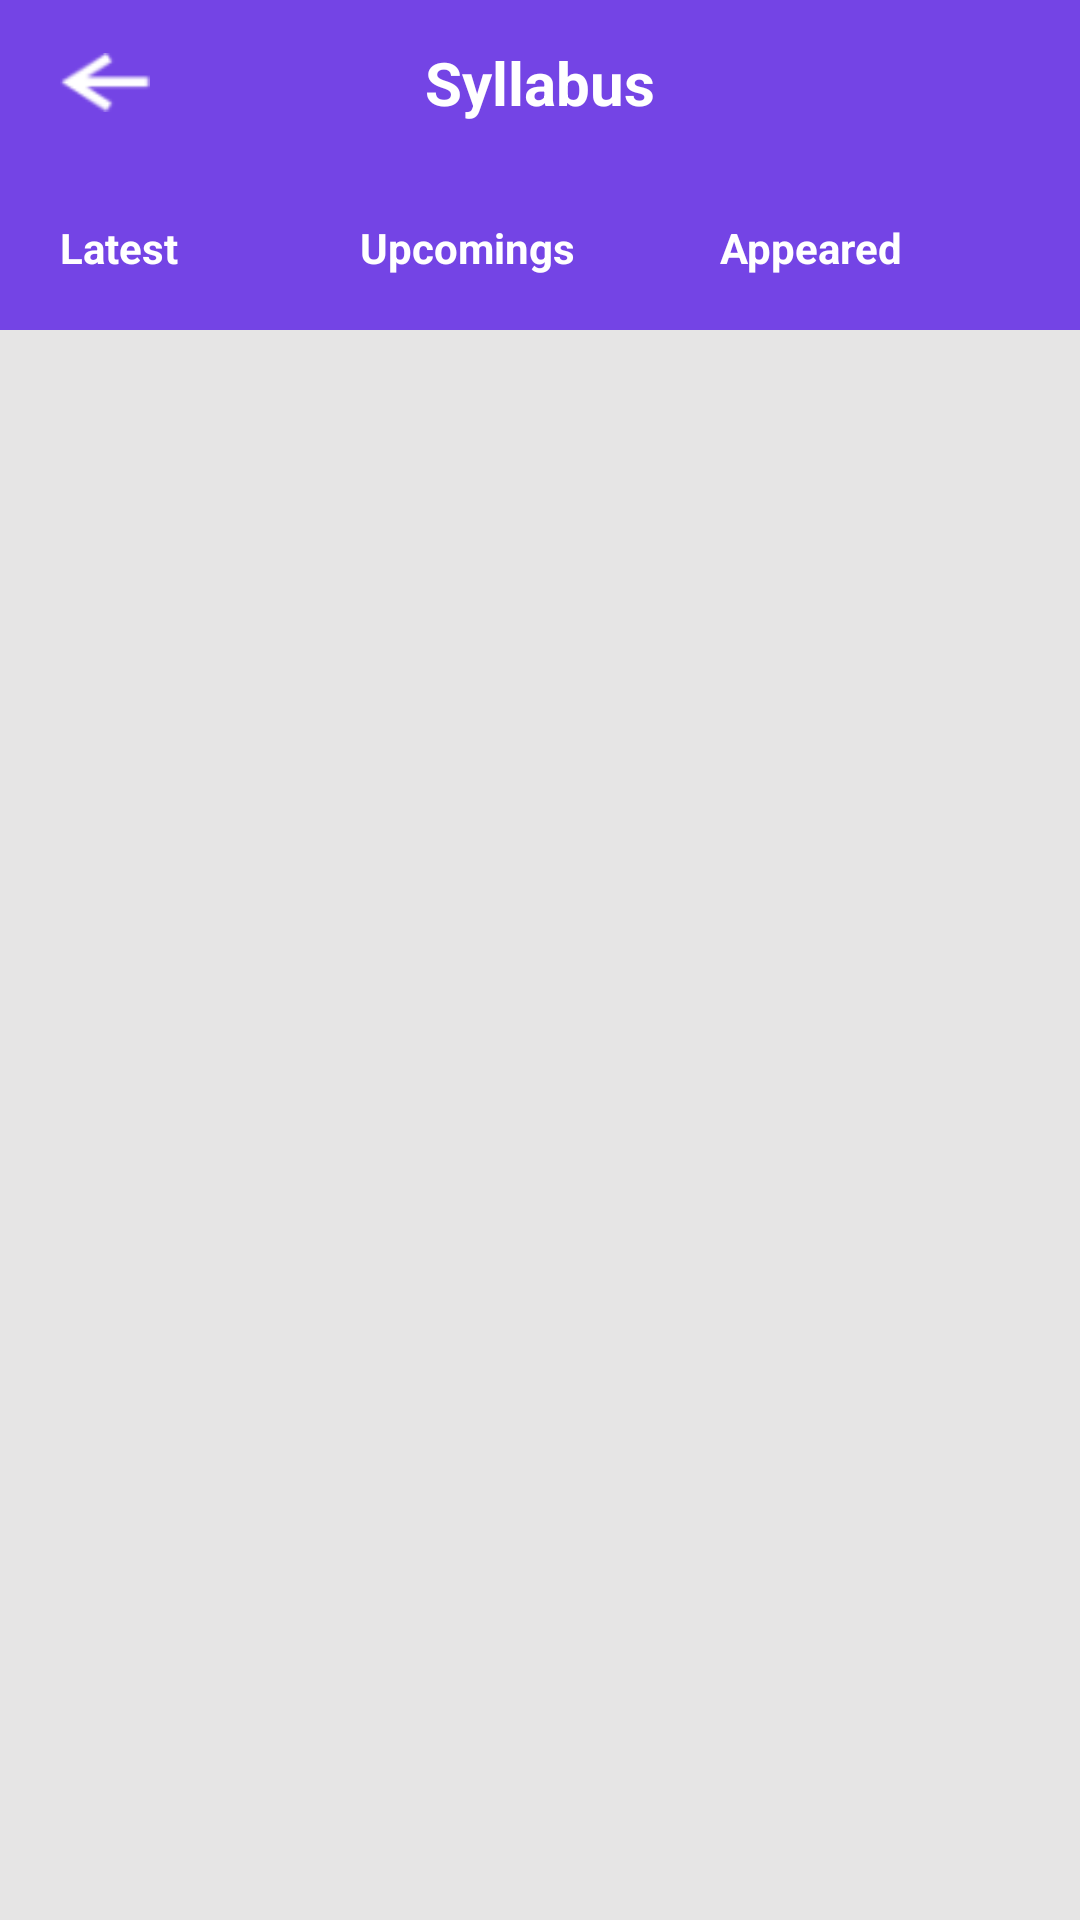

Icons on this 1080px x 1920px Android screen, each with its box as detection(x1, y1, x2, y2):
back: detection(61, 53, 150, 112)
